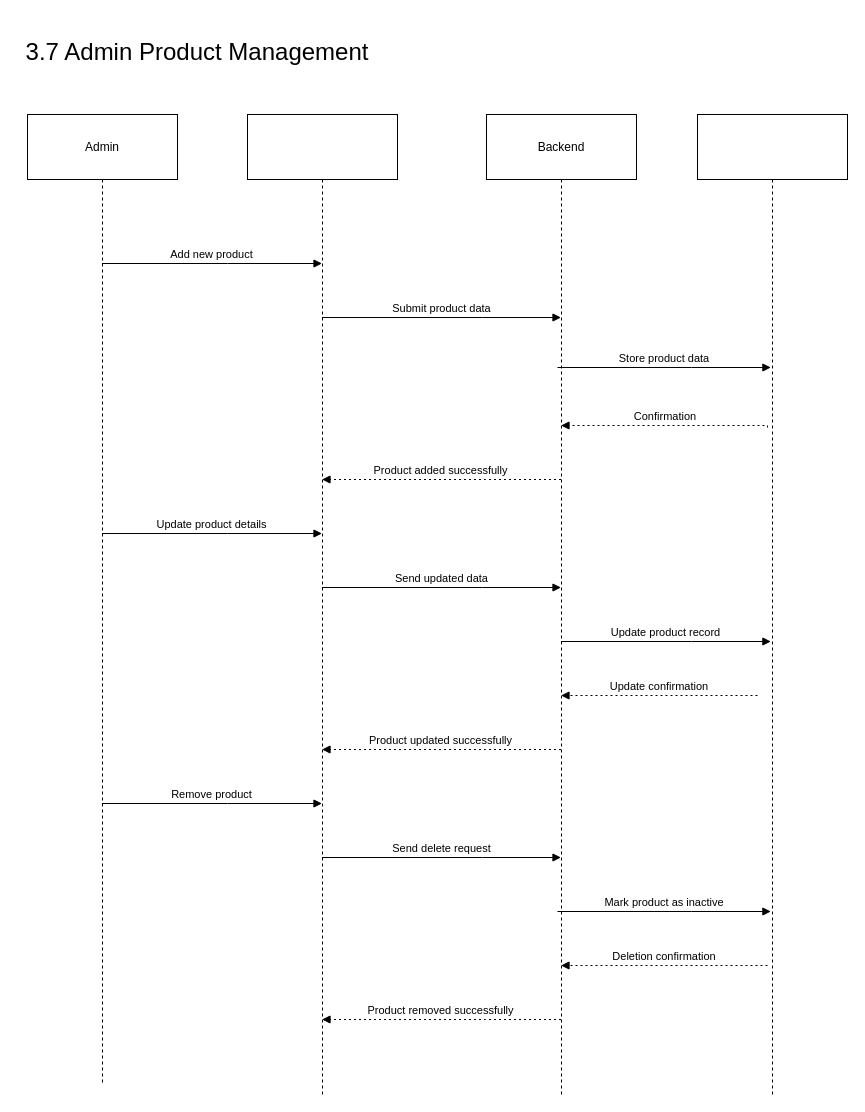
Some shapes in this 865 by 1112 pixel diagram are drawn without their labels. Each missing label, with the box of its shape:
DB: (696, 114, 848, 1094)
Frontend: (246, 114, 398, 1094)
